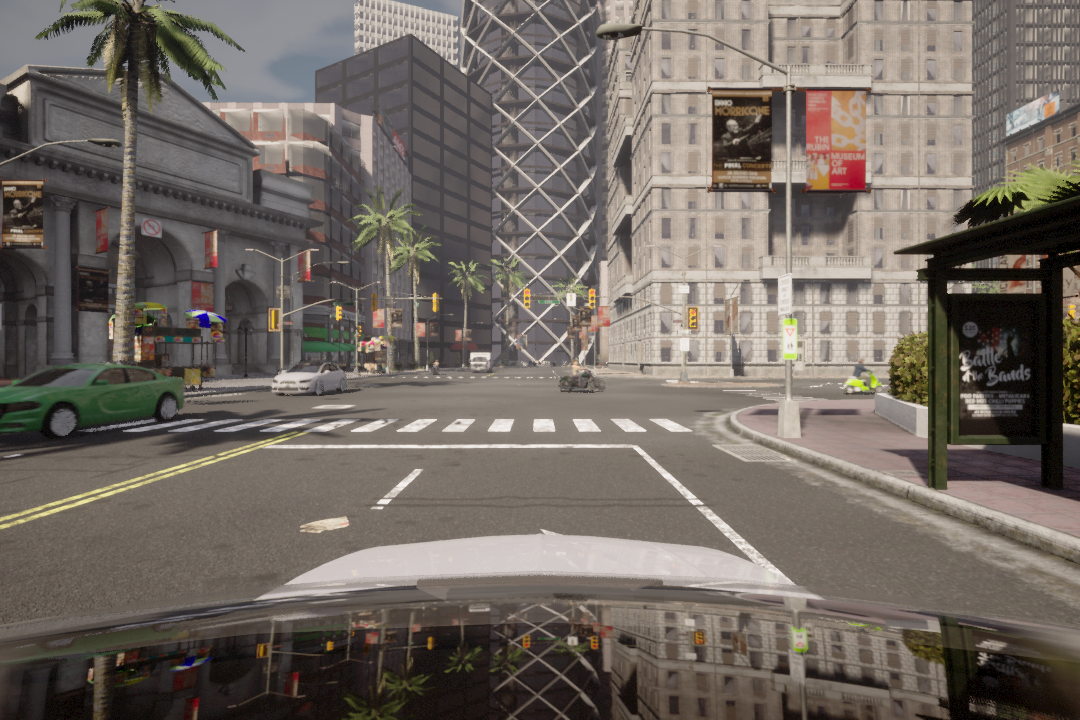TrafficLight: (687, 304, 700, 331), (521, 286, 534, 311), (585, 286, 598, 310)
TrafficSign: (139, 217, 161, 237)
walkside: (77, 408, 700, 441)
